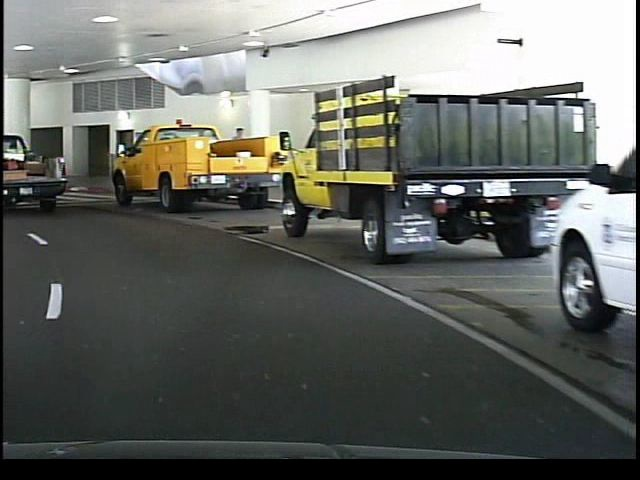person: (226, 123, 249, 197)
